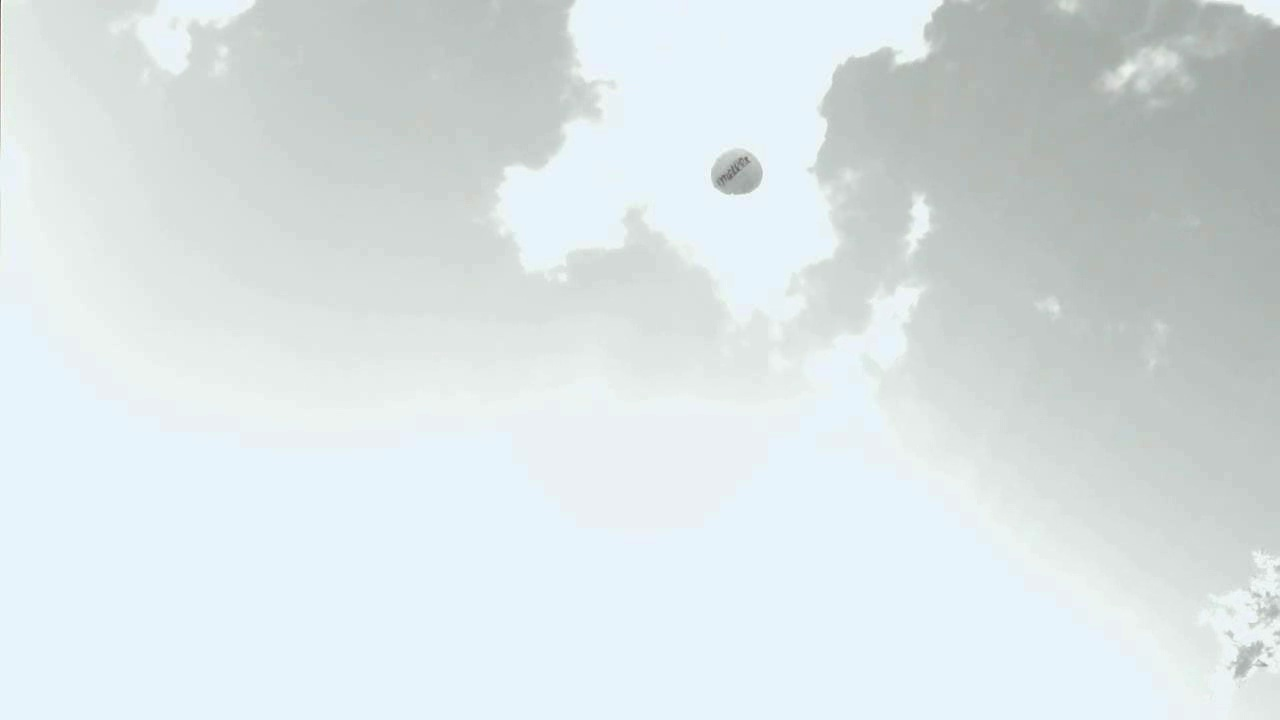Football-Spotter: (712, 148, 762, 193)
